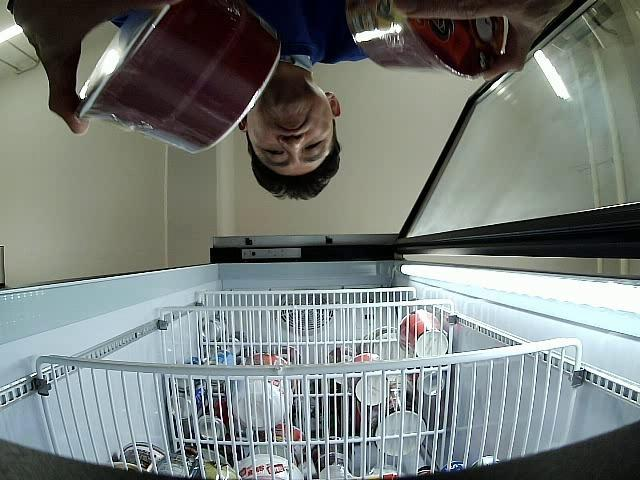05_nuguri_L: (78, 0, 281, 153), (344, 0, 505, 79)
